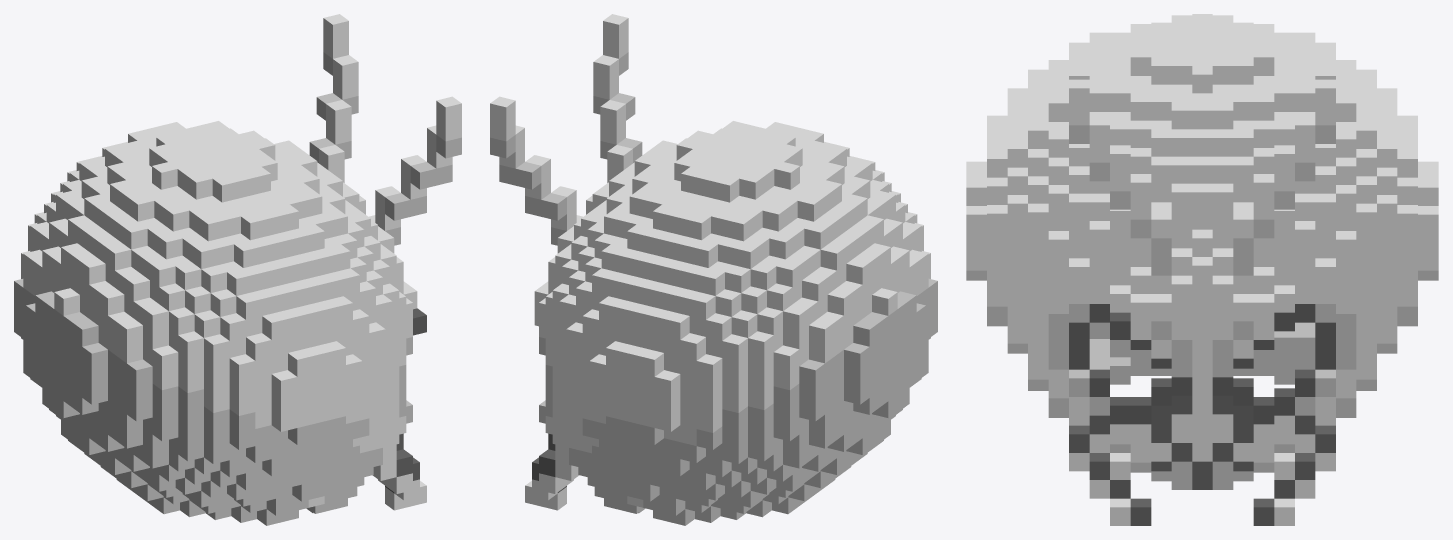
The model's file is Mascara Mantis.obj.
3 renders of one model, left to right at view 1: azimuth 30°, elevation 25°; view 2: azimuth 150°, elevation 25°; view 3: azimuth 270°, elevation 25°, orthographic. The views are drawn at different scales.
Bounding box in the file's own units: 2.1 × 2.4 × 2.3.
